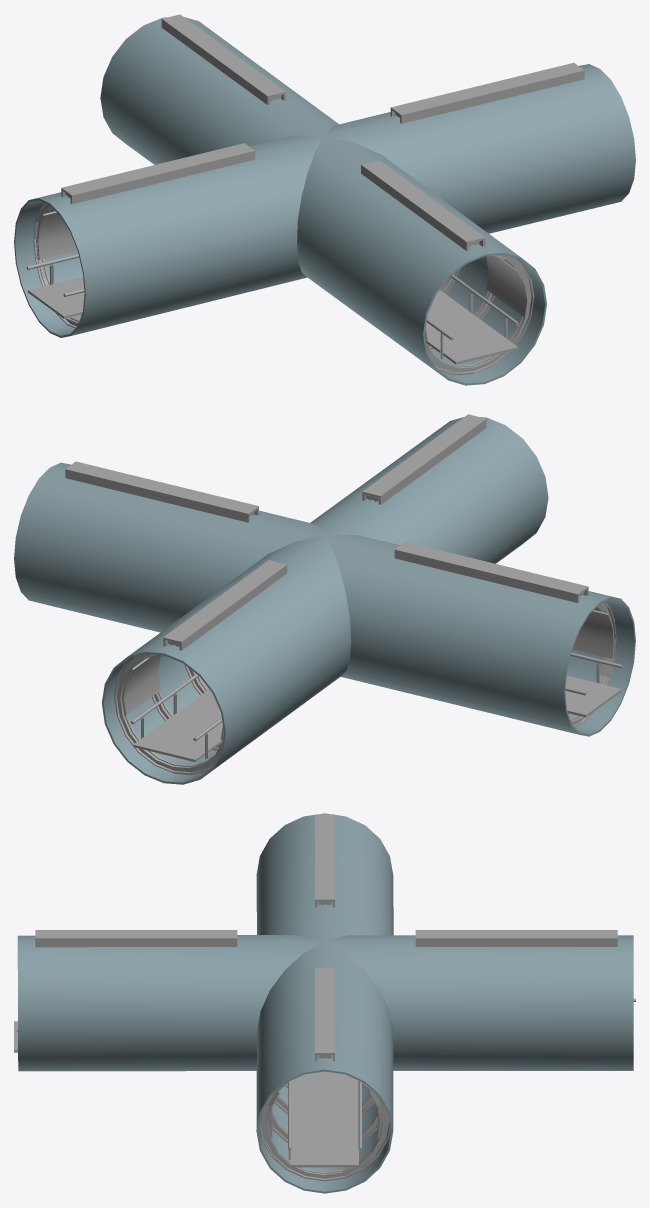
Rendered from Hallway.mb.fbx.
3 renders of one model, top to bottom at view 1: azimuth 30°, elevation 25°; view 2: azimuth 150°, elevation 25°; view 3: azimuth 270°, elevation 25°, orthographic. The views are drawn at different scales.
Visible parts, largest first — view 1: polySurface760, polySurface271, polySurface512, pCube32, pCube52, pCube3, polySurface255, pPipe9, polySurface423, polySurface505, polySurface273; view 2: polySurface760, polySurface271, polySurface512, pCube32, pCube52, pCube3, pPipe3, polySurface753, polySurface500, polySurface423, polySurface273; view 3: polySurface760, polySurface423, pCube52, pCube3, polySurface507, polySurface512, polySurface271.
Boxes of the visible parts, bbox=[...] form: polySurface760: bbox=[14, 17, 635, 385]; polySurface271: bbox=[61, 143, 255, 204]; polySurface512: bbox=[390, 62, 584, 123]; pCube32: bbox=[426, 290, 517, 364]; pCube52: bbox=[361, 160, 485, 250]; pCube3: bbox=[161, 14, 285, 104]; polySurface255: bbox=[486, 256, 528, 317]; pPipe9: bbox=[426, 255, 533, 374]; polySurface423: bbox=[28, 277, 84, 318]; polySurface505: bbox=[37, 211, 77, 259]; polySurface273: bbox=[33, 203, 79, 328]; polySurface760: bbox=[14, 417, 635, 784]; polySurface271: bbox=[394, 542, 588, 602]; polySurface512: bbox=[65, 461, 258, 522]; pCube32: bbox=[133, 689, 222, 762]; pCube52: bbox=[362, 414, 486, 504]; pCube3: bbox=[163, 560, 287, 650]; pPipe3: bbox=[114, 654, 223, 774]; polySurface753: bbox=[122, 655, 161, 715]; polySurface500: bbox=[572, 610, 614, 658]; polySurface423: bbox=[565, 675, 621, 717]; polySurface273: bbox=[570, 602, 616, 726]; polySurface760: bbox=[17, 813, 633, 1193]; polySurface423: bbox=[290, 1071, 358, 1167]; pCube52: bbox=[35, 930, 237, 947]; pCube3: bbox=[415, 930, 617, 946]; polySurface507: bbox=[260, 1081, 389, 1180]; polySurface512: bbox=[315, 967, 334, 1061]; polySurface271: bbox=[315, 814, 334, 907].
Bounding box in the file's own units: 9.13 × 2.12 × 9.09.
